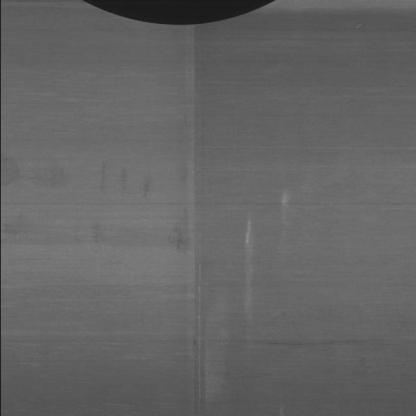welding_line: (181, 6, 223, 416)
